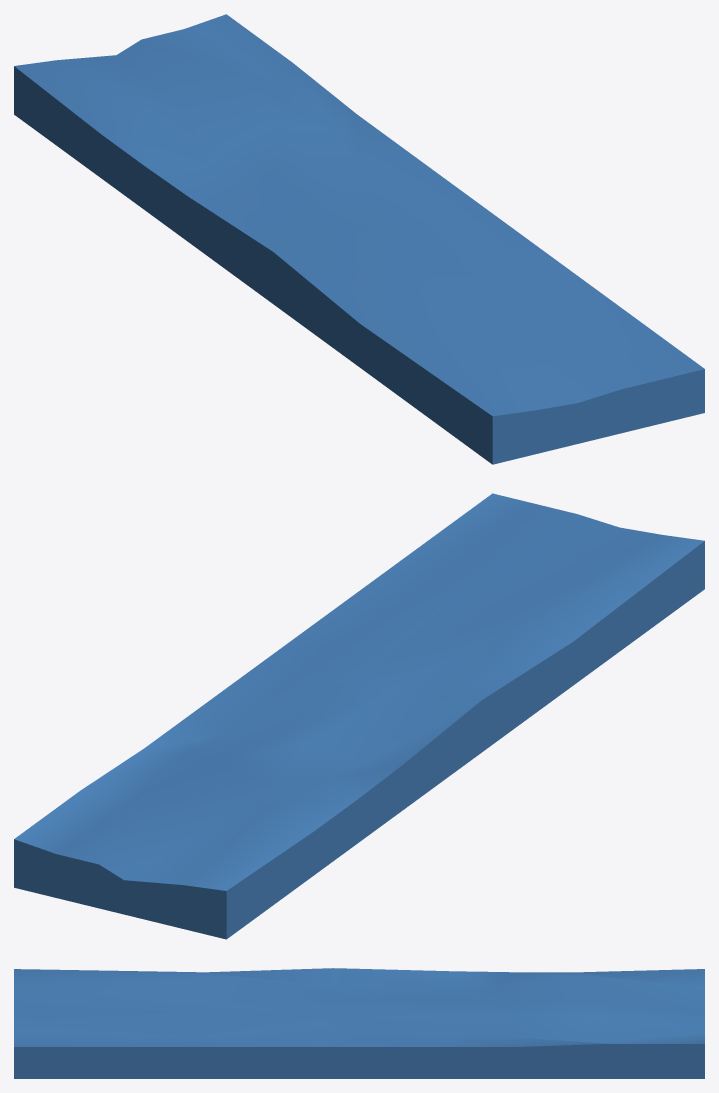
The model's file is River_1.fbx.
3 views of the same model, one above another, from view 1: azimuth 30°, elevation 25°; view 2: azimuth 150°, elevation 25°; view 3: azimuth 270°, elevation 25° (orthographic). The views are drawn at different scales.
Visible parts, largest first — view 1: River_1; view 2: River_1; view 3: River_1.
Part boxes in pixels (x1,y1,x2,y2): River_1: [14, 14, 704, 464]; River_1: [14, 493, 704, 939]; River_1: [14, 968, 704, 1078].
Size of the model in its own units: 5099 by 1375 by 19888.
